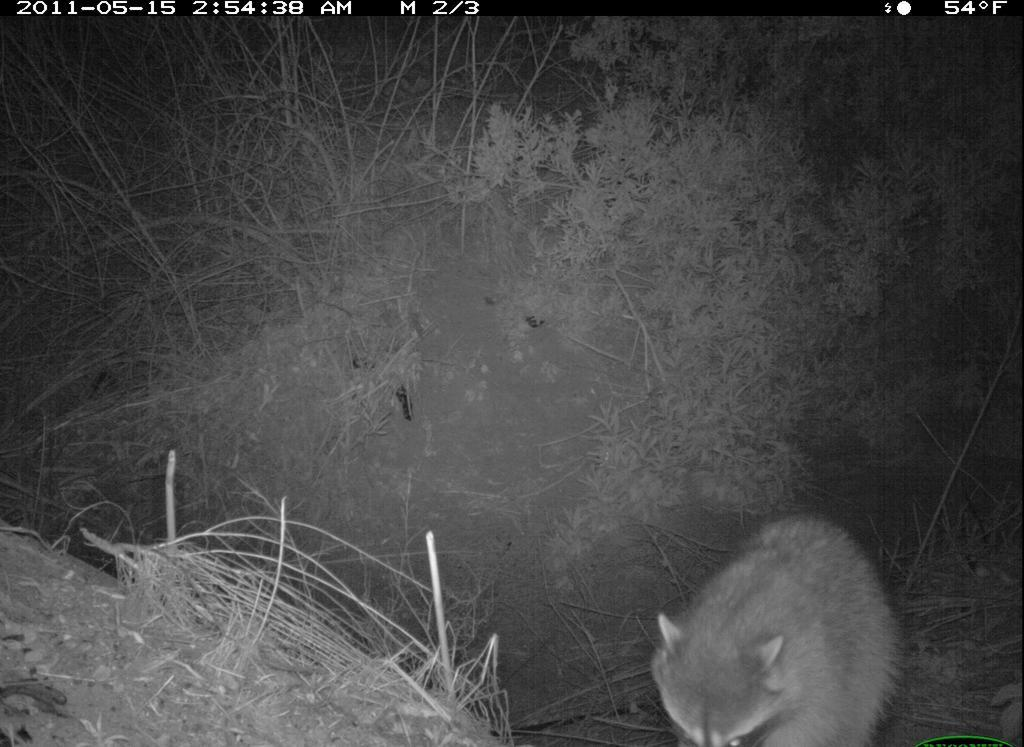raccoon: (605, 501, 937, 747)
